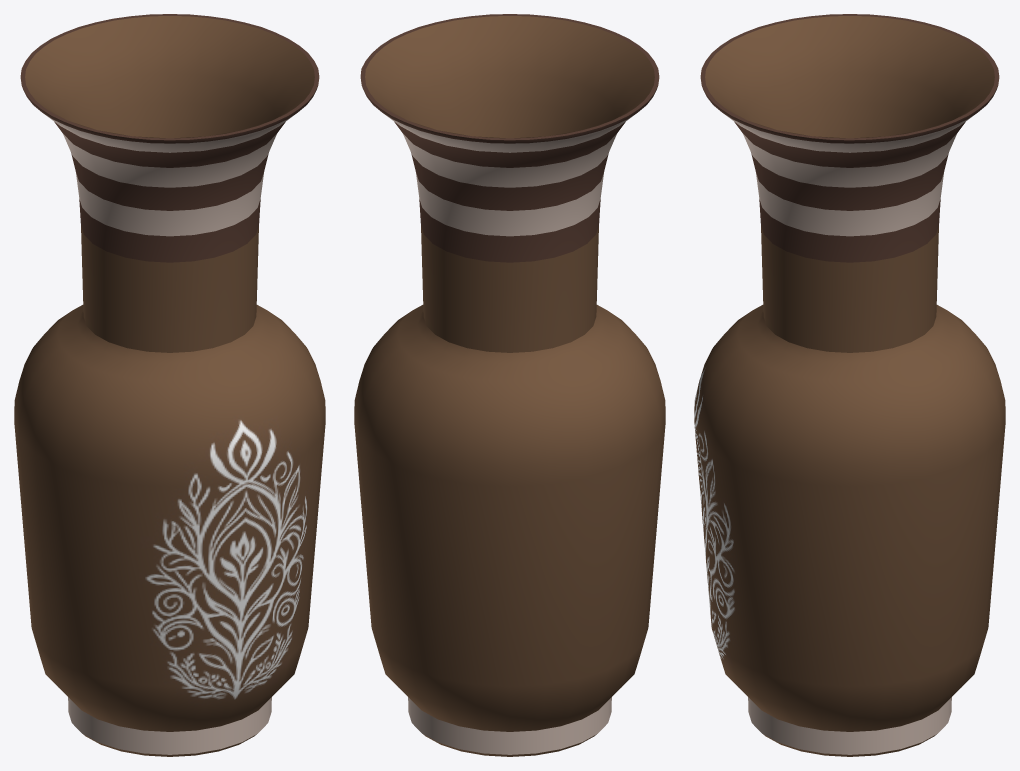
The model's file is Vase_1-2.fbx.
3 views of the same model, side by side, from view 1: azimuth 30°, elevation 25°; view 2: azimuth 150°, elevation 25°; view 3: azimuth 270°, elevation 25° (orthographic).
Visible parts, largest first — view 1: Vase_1-2; view 2: Vase_1-2; view 3: Vase_1-2.
Boxes of the visible parts, box(x1,y1,x2,y2) form: Vase_1-2: box(14, 14, 325, 756); Vase_1-2: box(354, 14, 665, 756); Vase_1-2: box(694, 14, 1005, 756).
Bounding box in the file's own units: 44.92 × 102 × 44.92.
1 material, 1 textured.
